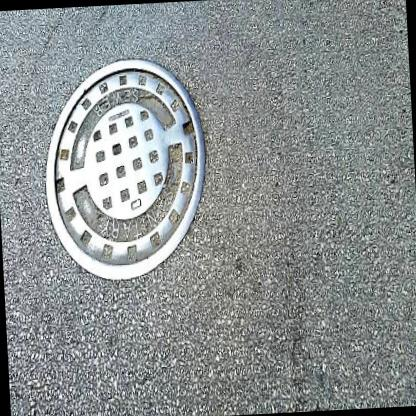manholes: (30, 35, 221, 298)
